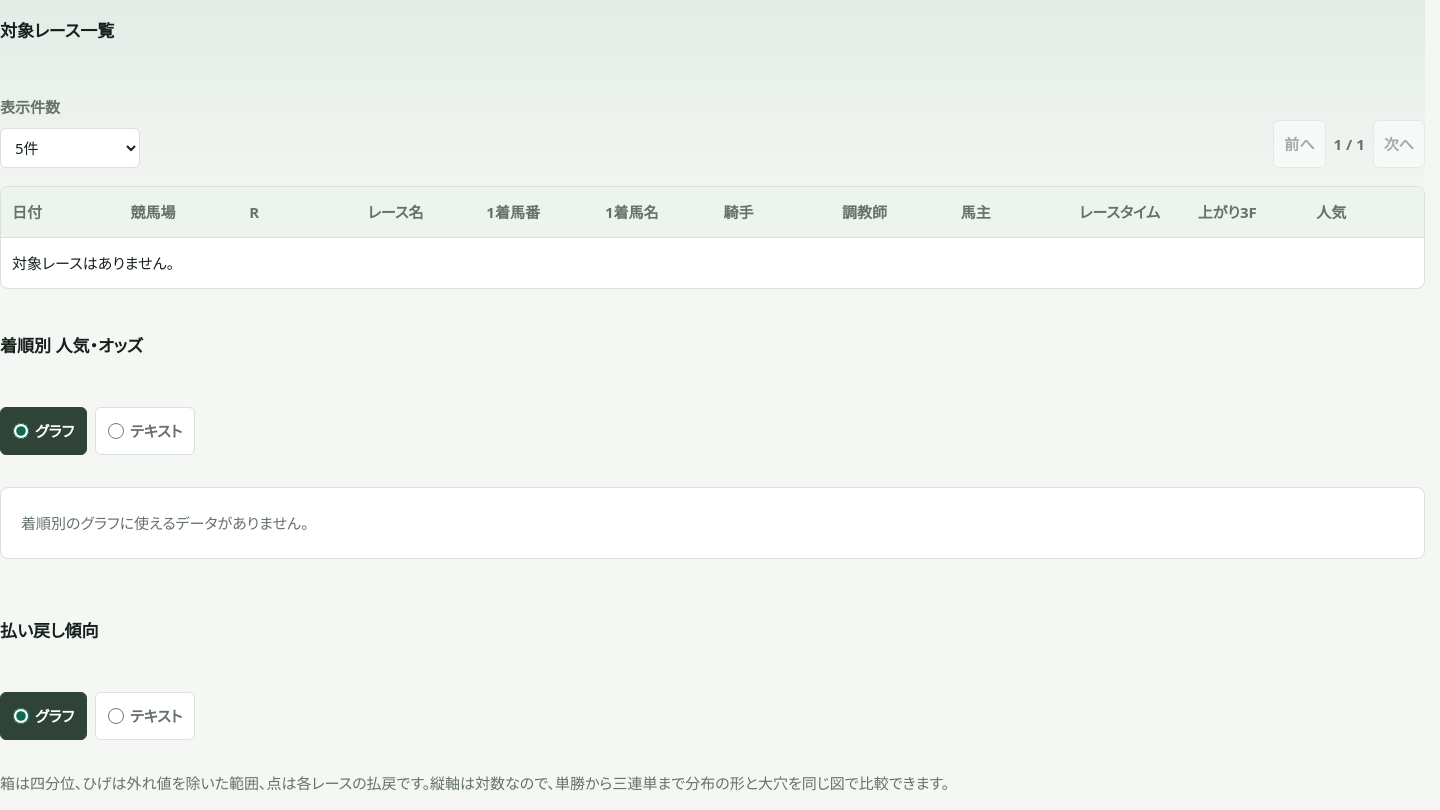
it: keeps a payout toggle made before preference load finishes
Click the radio button labelled "テキスト" below "払い戻し傾向": x=116, y=716 [108,708,124,724]
(page scrolled)
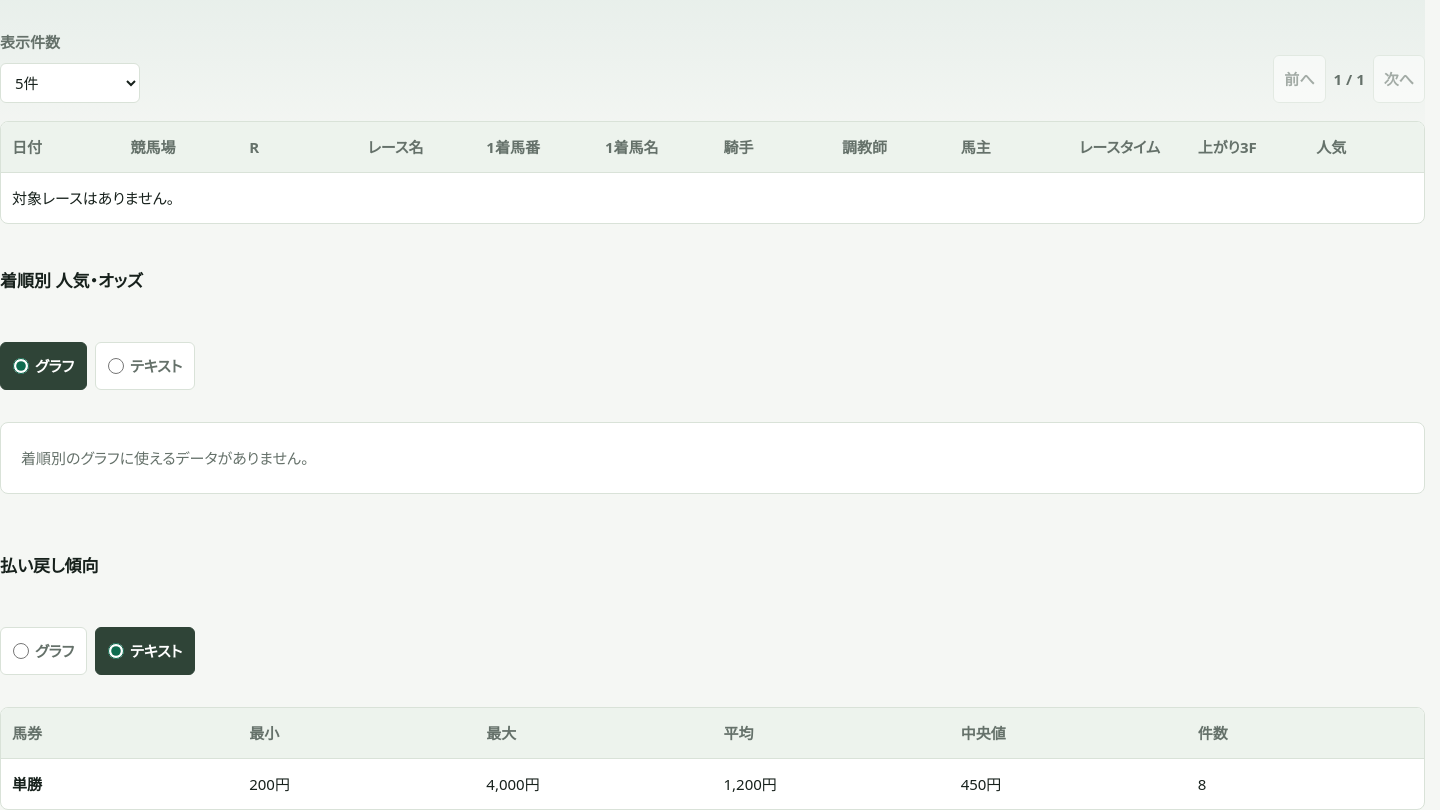
Now the column heading "馬券" is shown, box [1,708,238,758]
